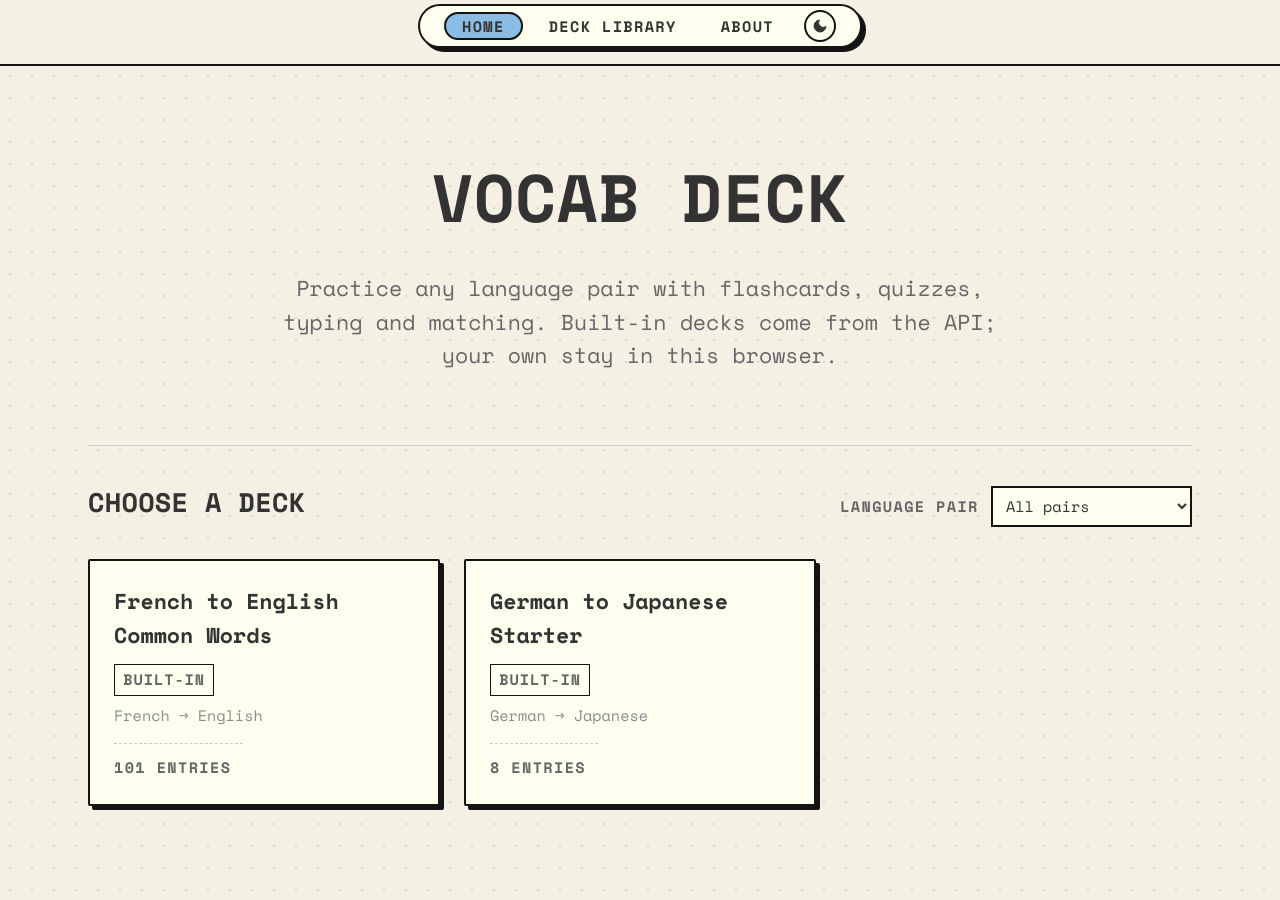
Test case: language pair filter narrows the deck list
Expected: the text "French to English Common Words" is shown, [114, 585, 339, 651]
Select "German → Japanese" in the dropdown named "filter decks by language pair": (1091, 506) [991, 486, 1192, 527]
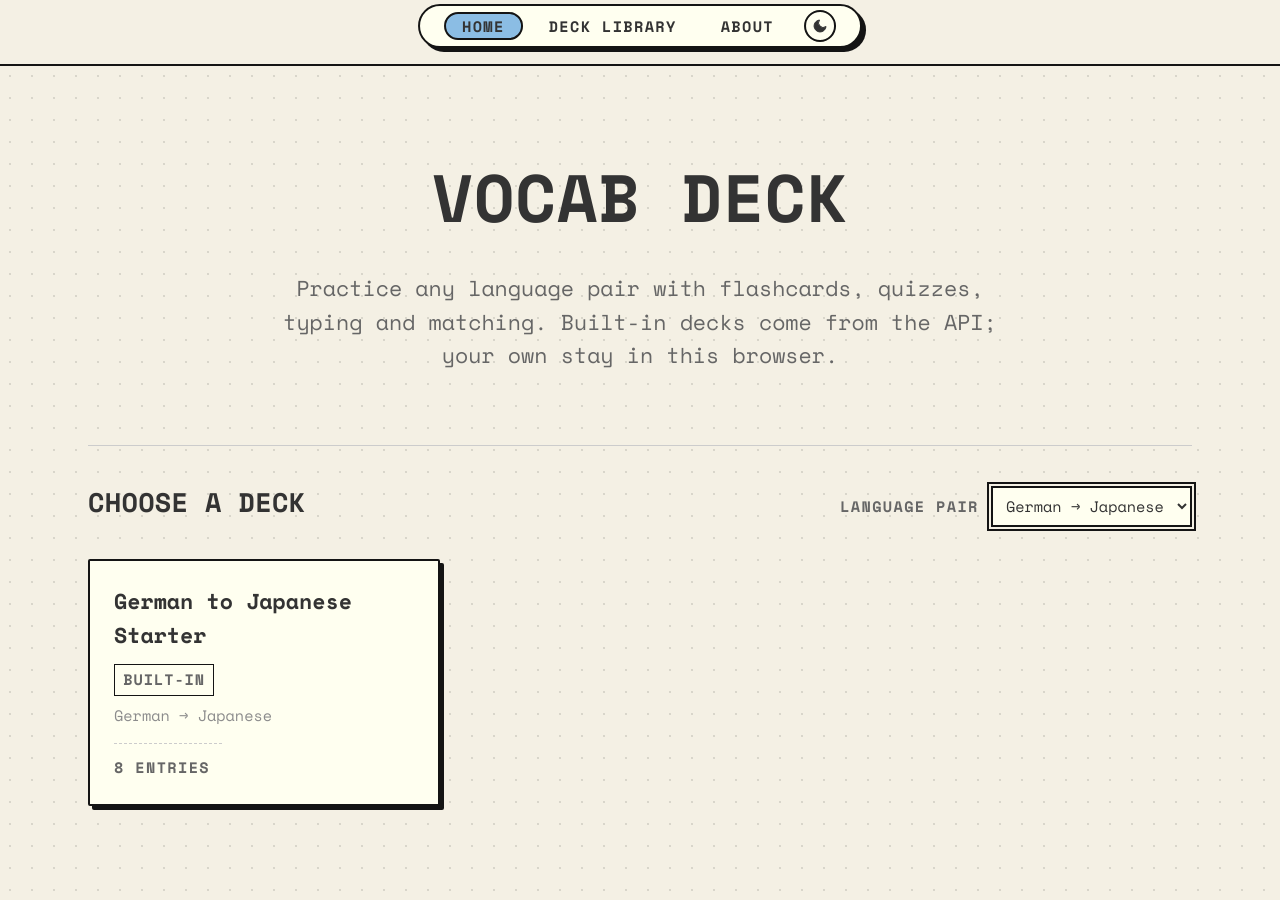
Expected: the text "German to Japanese Starter" is shown, [114, 585, 352, 651]
Now the button "French to English Common Words" is gone
